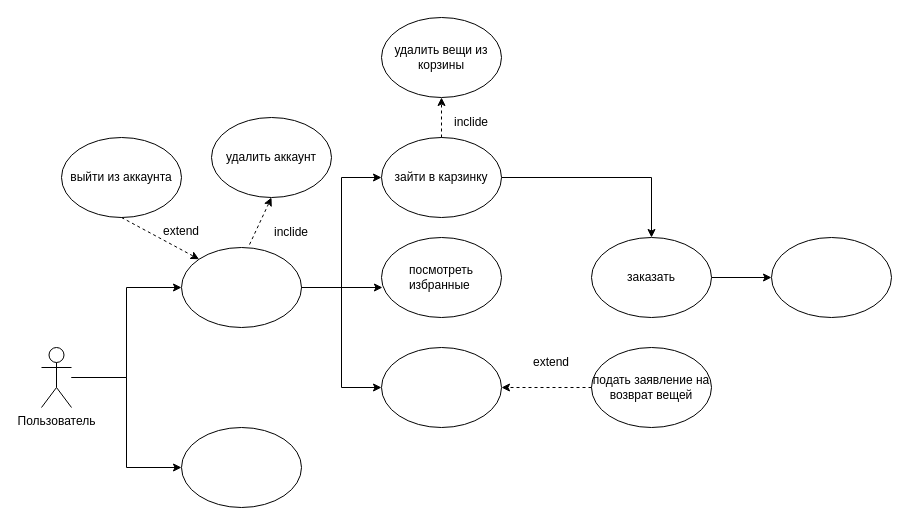
Some shapes in this 909 by 525 pixel diagram are drawn without their labels. The centre of each missing label's shape, as x and y in pixels:
"зарегестрироваться на сайте" belongs at [241,287].
"просмотреть каталог" belongs at [241,467].
"прошлые заказы" belongs at [441,387].
"указать адрес доставки или пункт выдачи" belongs at [831,277].
